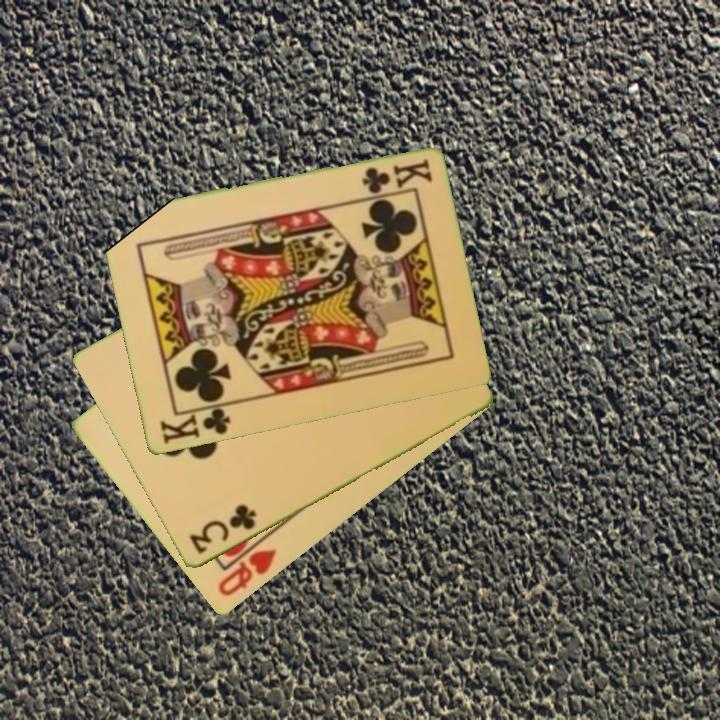3c: (185, 501, 260, 558)
Kc: (156, 400, 234, 447), (358, 156, 435, 196)
Qh: (214, 545, 280, 600)
